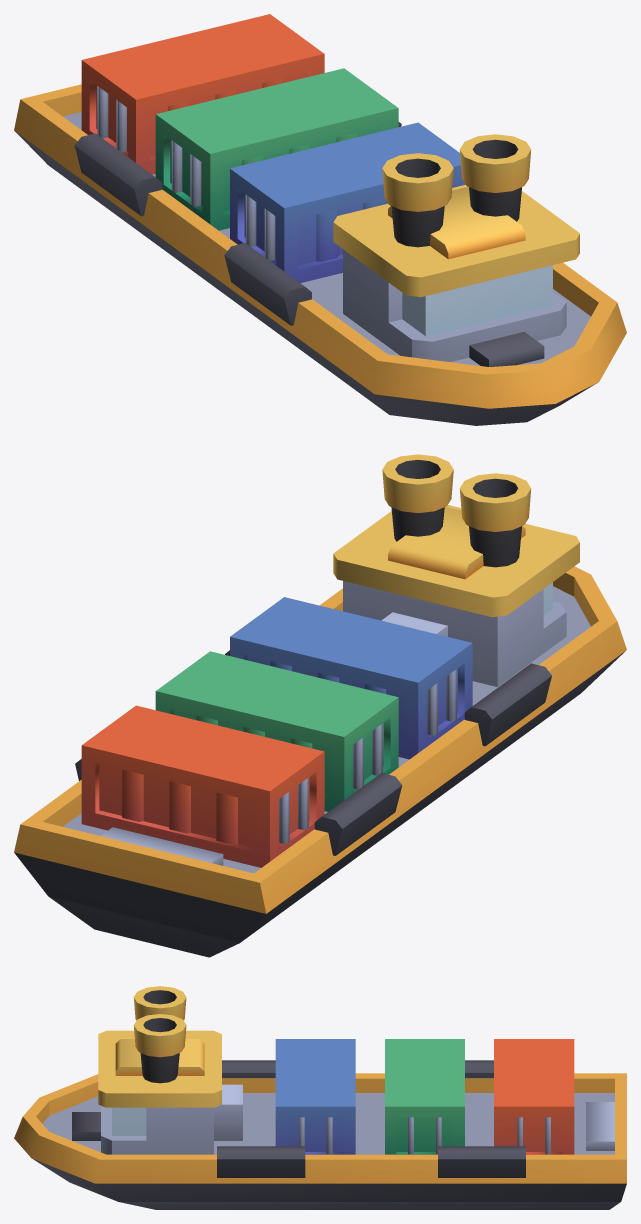
File: lastfartyg.glb
3 views of the same model, one above another, from view 1: azimuth 30°, elevation 25°; view 2: azimuth 150°, elevation 25°; view 3: azimuth 270°, elevation 25° (orthographic). The views are drawn at different scales.
Parts seen in each view (by area): view 1: ship-cargo-a, cargo-b, cargo-c, cargo-a; view 2: ship-cargo-a, cargo-c, cargo-a, cargo-b; view 3: ship-cargo-a, cargo-a, cargo-c, cargo-b.
Boxes of the visible parts, bbox=[...] form: ship-cargo-a: bbox=[14, 84, 626, 425]; cargo-b: bbox=[155, 68, 398, 230]; cargo-c: bbox=[81, 14, 324, 174]; cargo-a: bbox=[230, 122, 465, 282]; ship-cargo-a: bbox=[14, 454, 626, 957]; cargo-c: bbox=[81, 705, 324, 867]; cargo-a: bbox=[230, 597, 472, 759]; cargo-b: bbox=[155, 651, 398, 811]; ship-cargo-a: bbox=[14, 986, 626, 1209]; cargo-a: bbox=[275, 1039, 355, 1154]; cargo-c: bbox=[494, 1039, 574, 1154]; cargo-b: bbox=[385, 1039, 464, 1154].
Size of the model in its own units: 3.92 by 3.38 by 10.55.
1 material, 1 textured.
